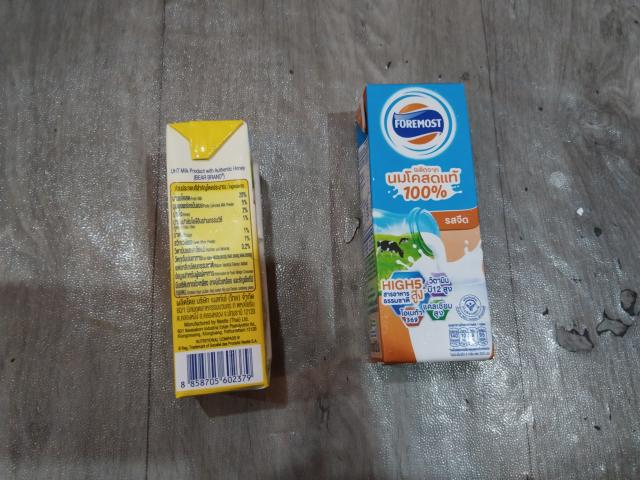drink_box: (355, 80, 496, 364), (162, 119, 268, 398)
